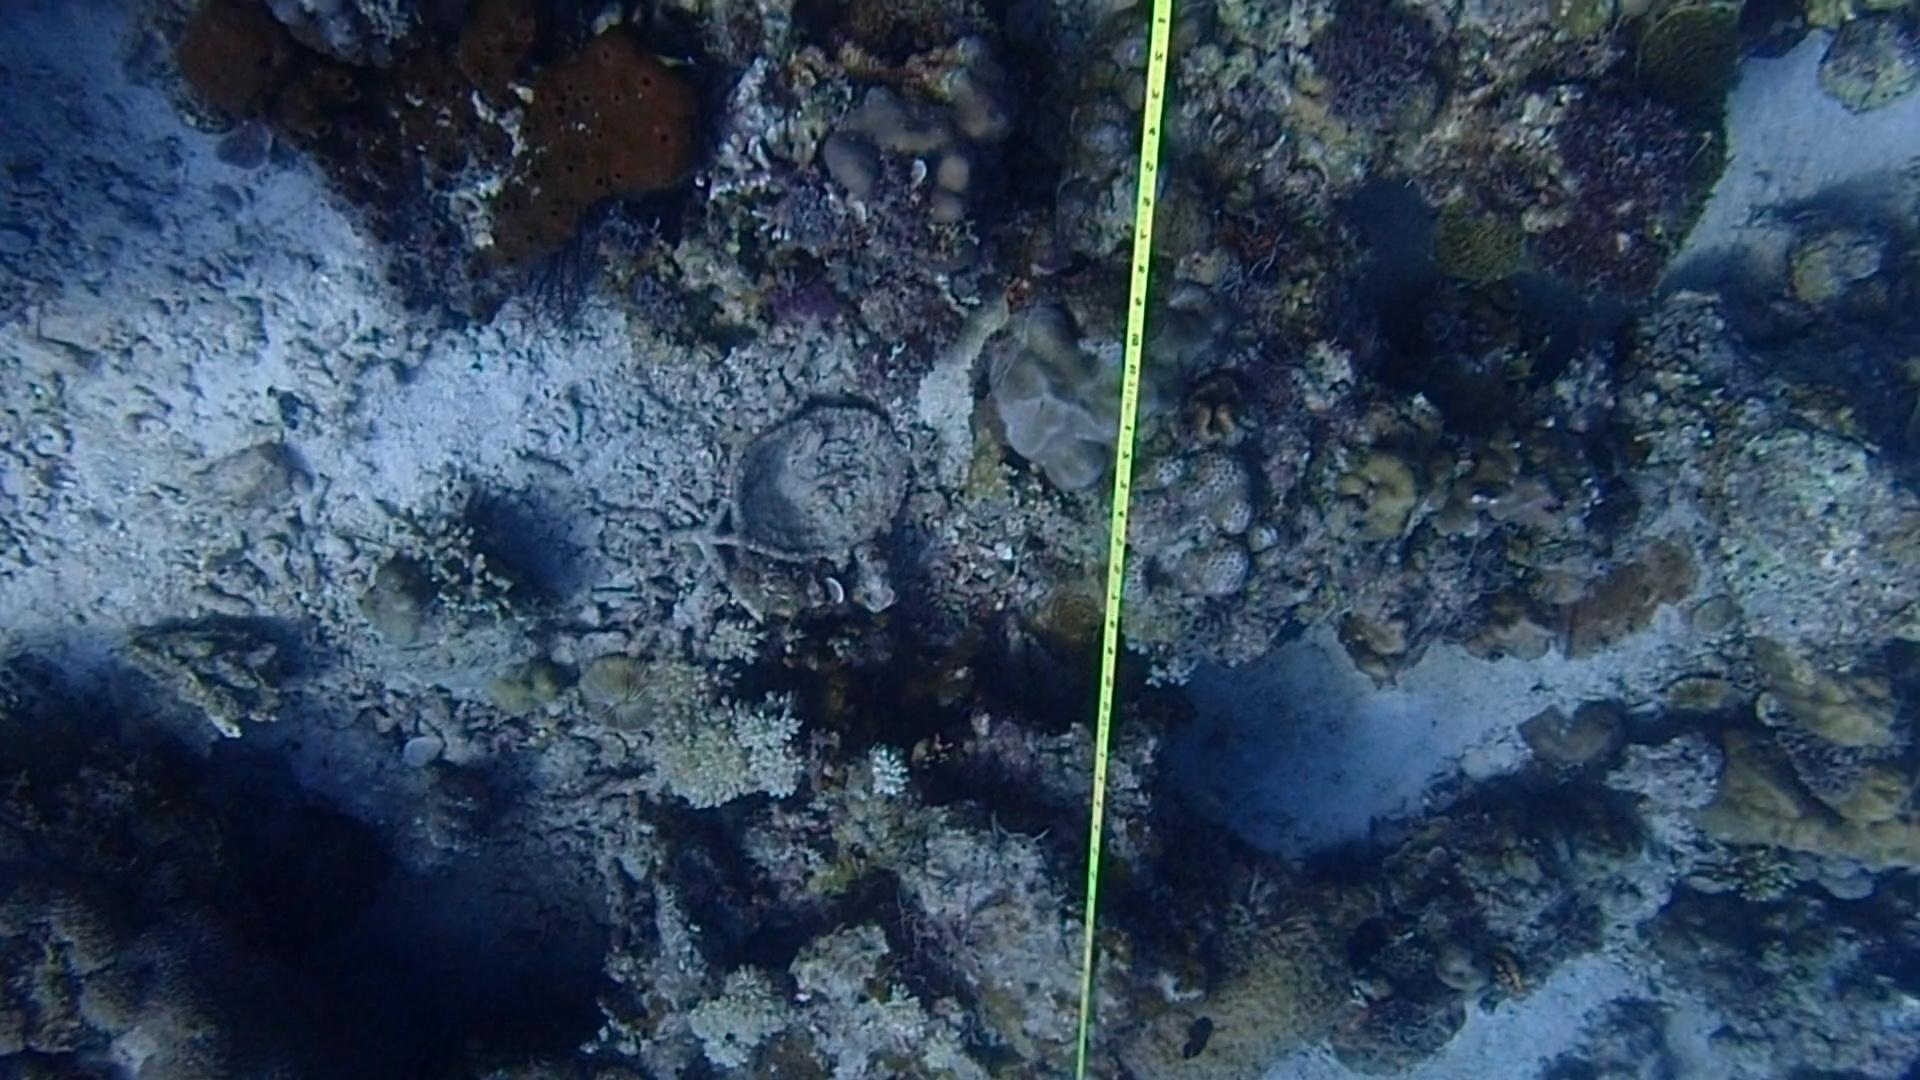Dark Fish: (1510, 313, 1589, 407), (1333, 913, 1406, 982), (1175, 1010, 1229, 1072)
